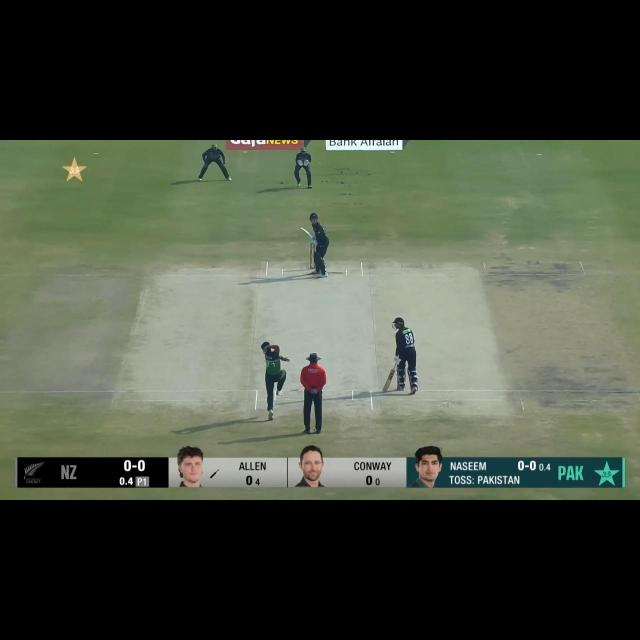bat: (381, 369, 395, 392), (297, 225, 313, 238)
toe: (381, 384, 391, 392), (299, 226, 306, 232)
